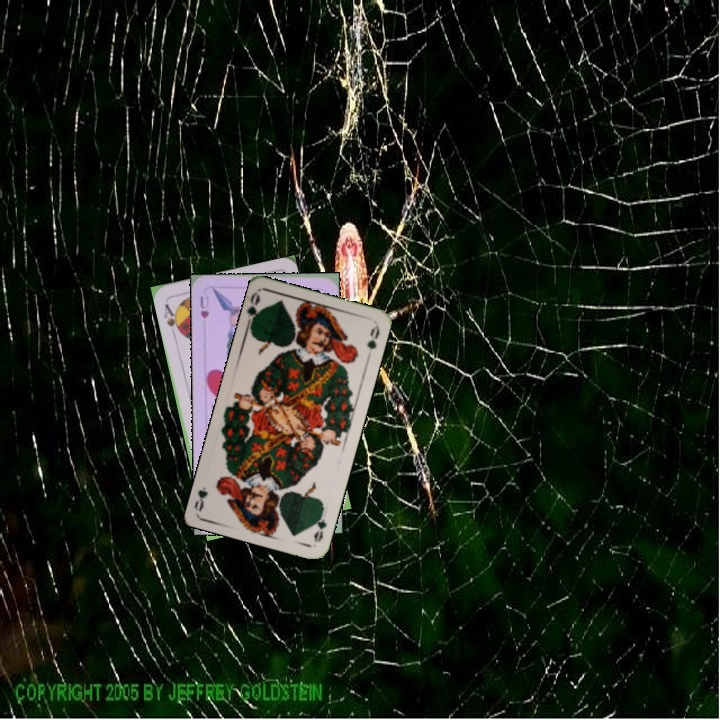GO: (242, 289, 266, 330), (309, 504, 329, 544)
HU: (196, 292, 212, 321)
SA: (160, 300, 184, 337)
